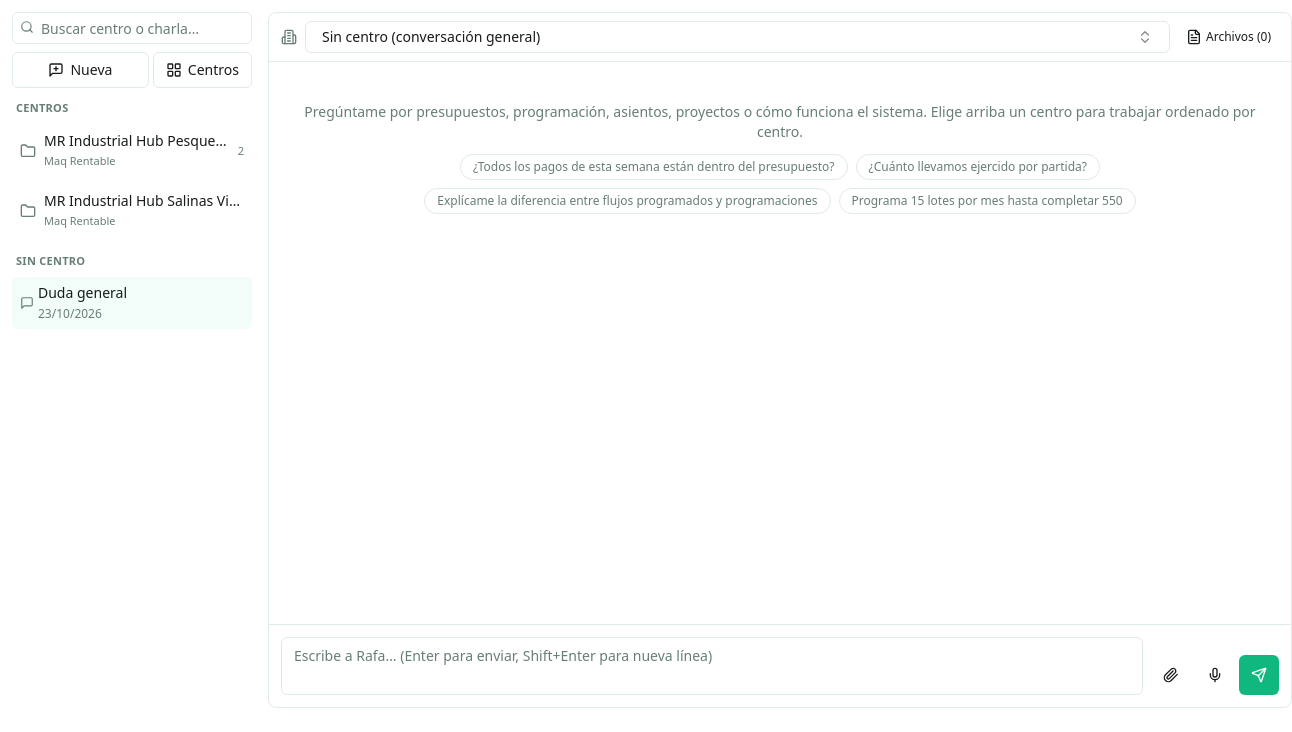
Scenario: centros como proyectos (tipo ChatGPT) › clic en un centro abre su página con sus charlas en cuadros; escribir ahí crea una charla del centro
The image size is (1292, 732).
Later steps or results of the test are not shown.
Click the button titled "CN021 · MR Industrial Hub Pesqueria" at (132,150), box [12,124,252,176]
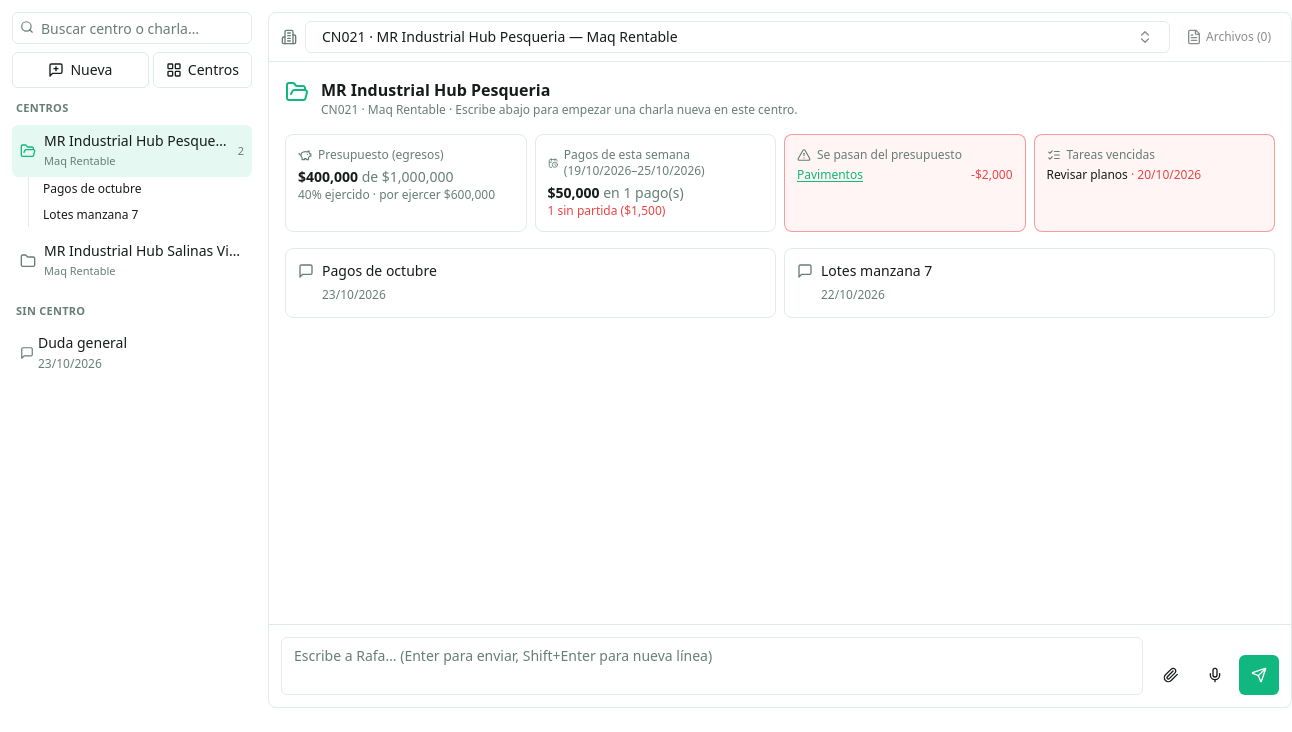
Now the heading "MR Industrial Hub Pesqueria" is shown, box [321,79,550,101]
Now the button with aria-label "Abrir charla Pagos de octubre" is shown, box [322,261,741,305]
Now the element named "Resumen del centro" is shown, box [285,134,1275,232]
